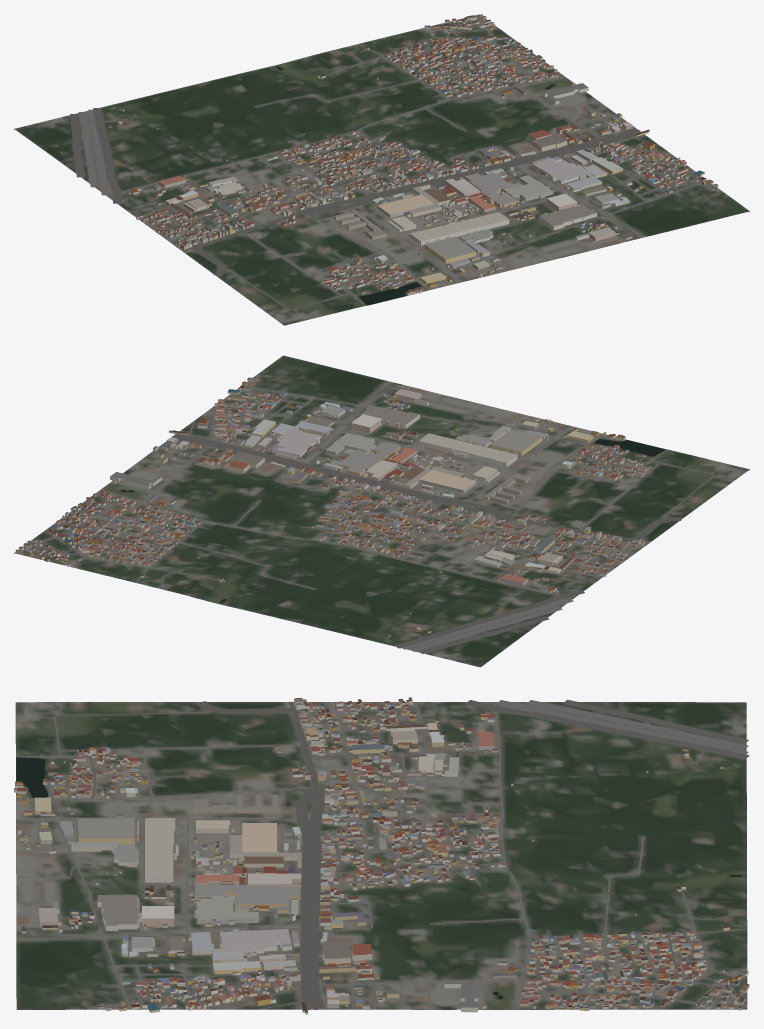
3 views of the same model, one above another, from view 1: azimuth 30°, elevation 25°; view 2: azimuth 150°, elevation 25°; view 3: azimuth 270°, elevation 25° (orthographic). The views are drawn at different scales.
Visible parts, largest first — view 1: ground, buildings, roads, water; view 2: ground, buildings, roads, water; view 3: ground, buildings, roads, water.
Part boxes in pixels (box(x1,y1,x2,y2)): ground: box(14, 14, 749, 325); buildings: box(109, 14, 718, 295); roads: box(70, 16, 724, 322); water: box(276, 66, 554, 305); ground: box(14, 355, 749, 667); buildings: box(15, 377, 652, 636); roads: box(19, 374, 745, 653); water: box(120, 439, 665, 602); ground: box(15, 702, 747, 1009); buildings: box(14, 697, 749, 1014); roads: box(16, 699, 749, 1009); water: box(16, 757, 742, 999).
Size of the model in its own units: 1430 by 27.24 by 1412.
